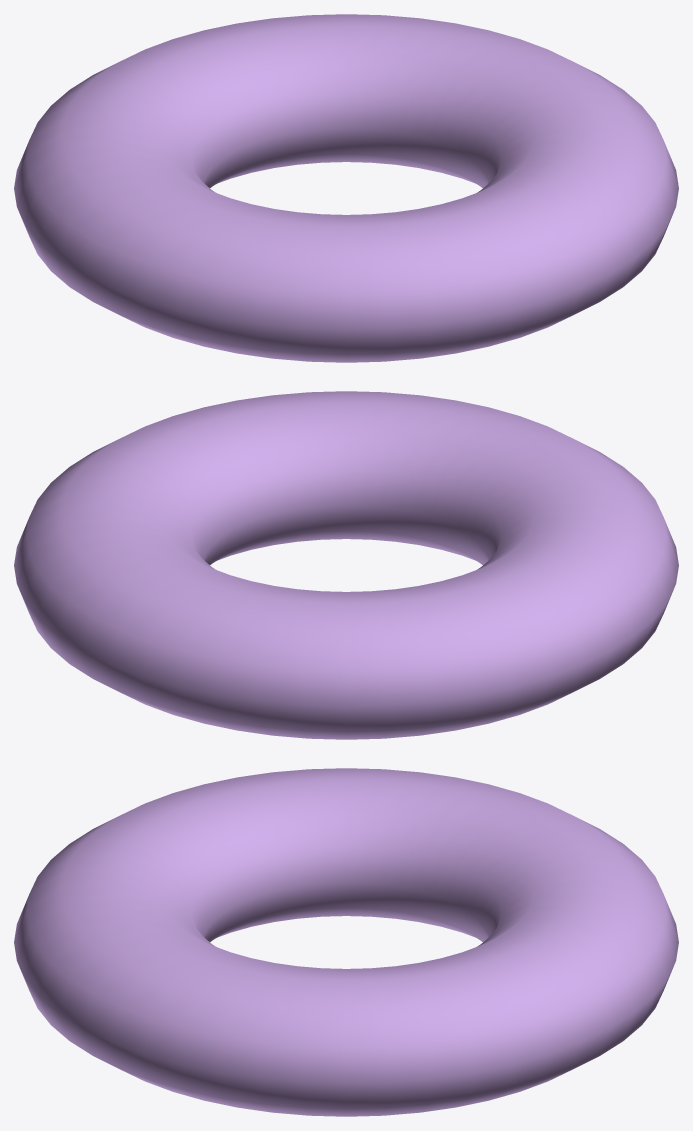
File: RingStand.fbx
3 renders of one model, top to bottom at view 1: azimuth 30°, elevation 25°; view 2: azimuth 150°, elevation 25°; view 3: azimuth 270°, elevation 25°, orthographic.
Parts seen in each view (by area): view 1: Torus.001; view 2: Torus.001; view 3: Torus.001.
Boxes of the visible parts, x1,y1,x2,y2 form: Torus.001: [14, 14, 678, 362]; Torus.001: [14, 391, 678, 739]; Torus.001: [14, 768, 678, 1116].
Size of the model in its own units: 126 by 26 by 126.
